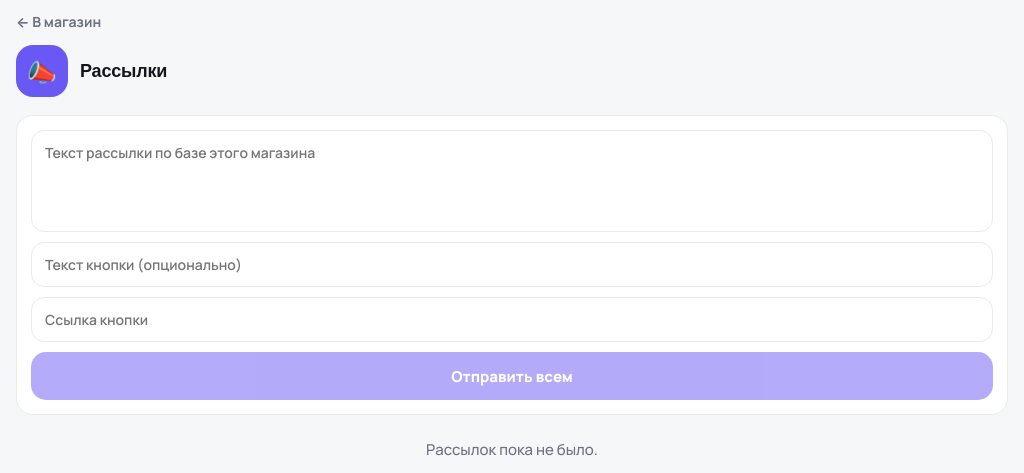
MailingsView — форма и история › кнопка неактивна без текста и при половине ссылки
Check: the button "Отправить всем" is disabled, box [31,352,993,400]
In the text box with placeholder "Текст рассылки по базе этого магазина": (512,181) [31,130,993,232], type "Привет!"
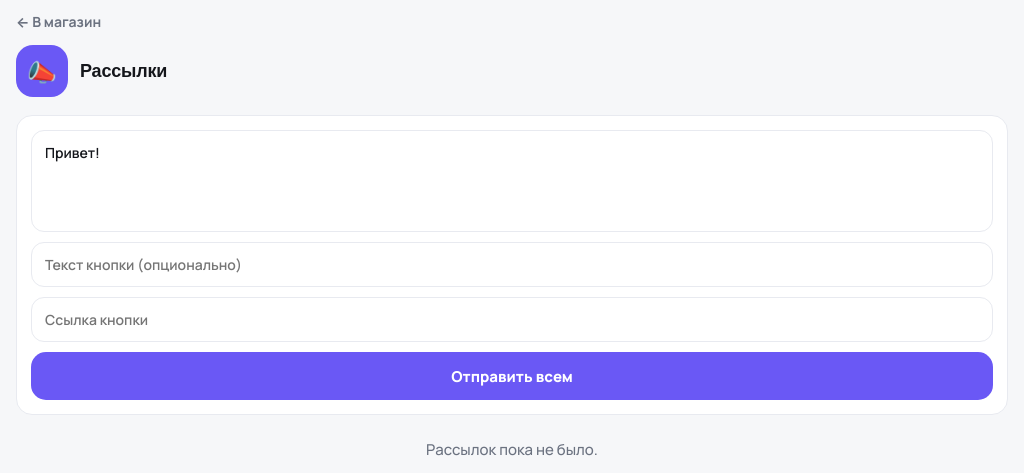
Check: the button "Отправить всем" is enabled, box [31,352,993,400]
In the field with placeholder "Текст кнопки (опционально)": (512,264) [31,242,993,287], type "В магазин"
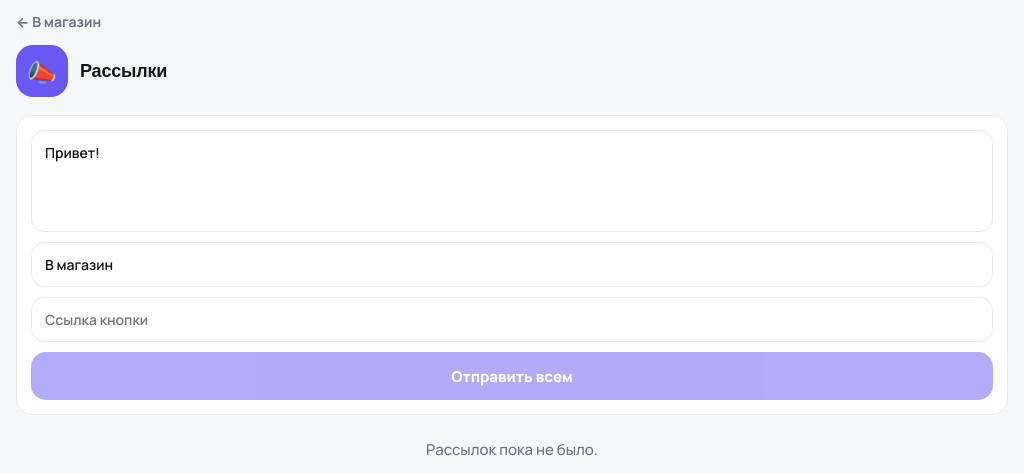
Check: the button "Отправить всем" is disabled, box [31,352,993,400]
In the field with placeholder "Ссылка кнопки": (512,320) [31,297,993,342], type "https://t.me/x"
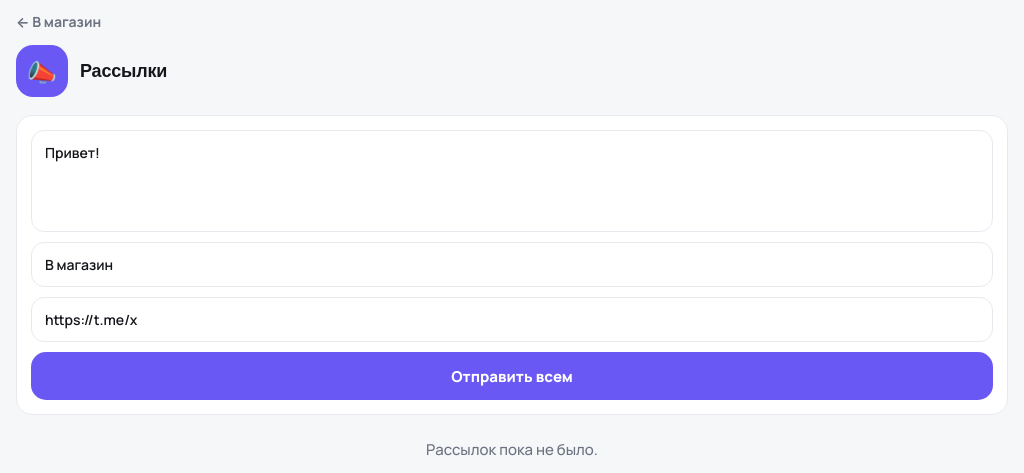
Check: the button "Отправить всем" is enabled, box [31,352,993,400]
